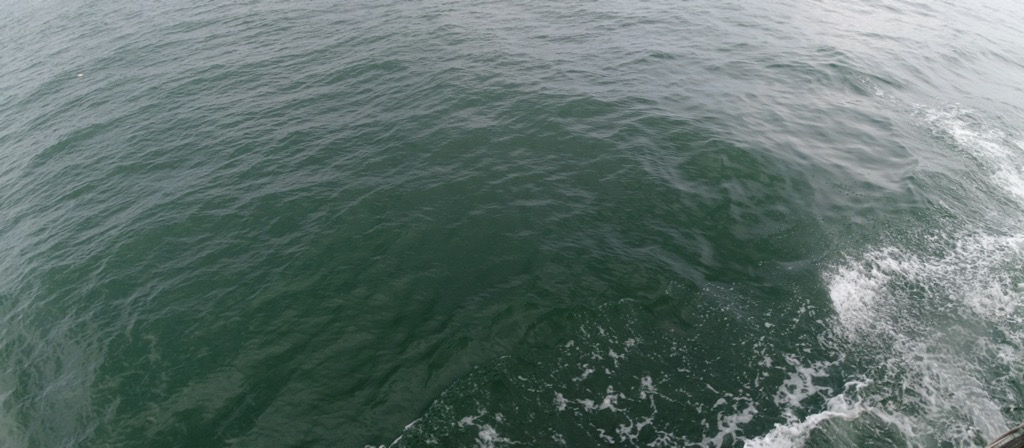plastic: (72, 69, 89, 81)
